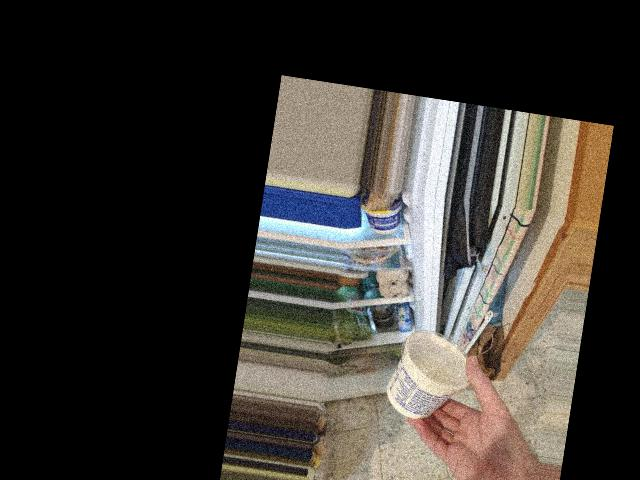cotage: (387, 327, 466, 421)
